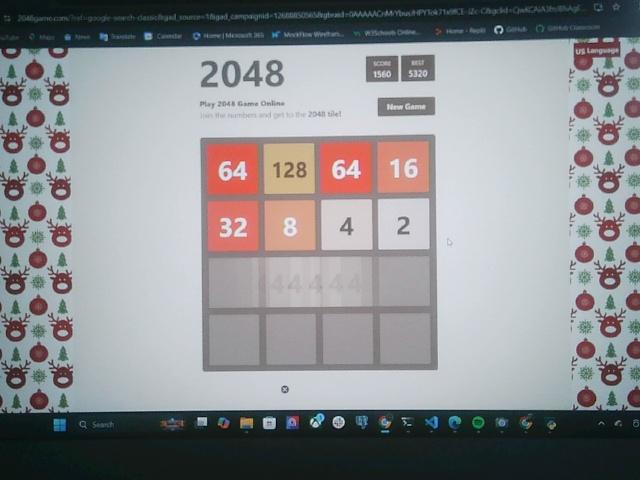board: (201, 137, 437, 372)
tile: (378, 199, 430, 251), (206, 143, 259, 194), (320, 143, 372, 194), (264, 143, 315, 194), (379, 142, 430, 193), (265, 200, 316, 250), (322, 200, 373, 250), (207, 202, 259, 251)
